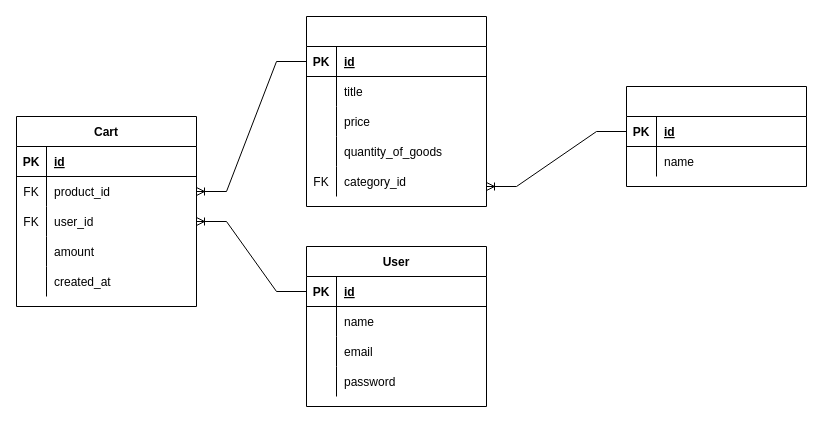
The diagram is 823 pixels wide and 423 high, and some of its shapes have lost their labels. Each missing label, with the box of its shape:
Category: (626, 86, 806, 186)
Product: (306, 16, 486, 206)
